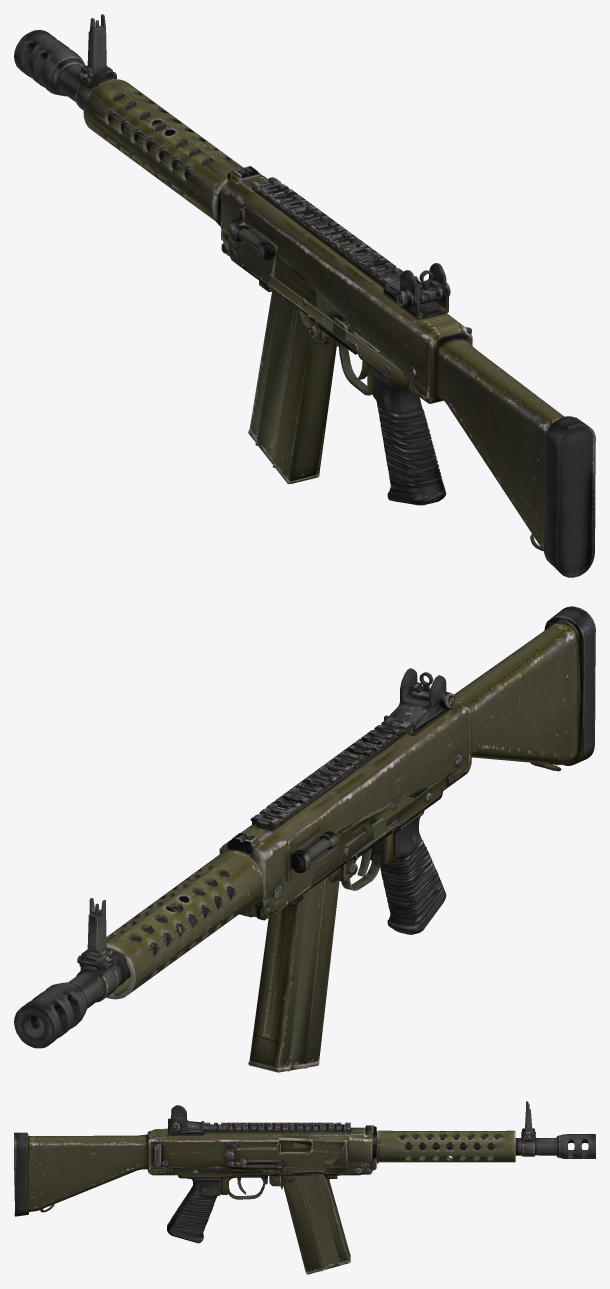
File: gun.glb
3 views of the same model, one above another, from view 1: azimuth 30°, elevation 25°; view 2: azimuth 150°, elevation 25°; view 3: azimuth 270°, elevation 25° (orthographic). The views are drawn at different scales.
Visible parts, largest first — view 1: gun, magazine; view 2: gun, magazine; view 3: gun, magazine.
Boxes of the visible parts, x1,y1,x2,y2 form: gun: (14,14,595,577); magazine: (248,291,340,484); gun: (14,606,595,1048); magazine: (248,876,339,1072); gun: (14,1101,595,1243); magazine: (283,1169,350,1274).
Bounding box in the file's own units: 0.0775 × 0.3179 × 0.9994.
Materials: 1 (1 with a texture image).
